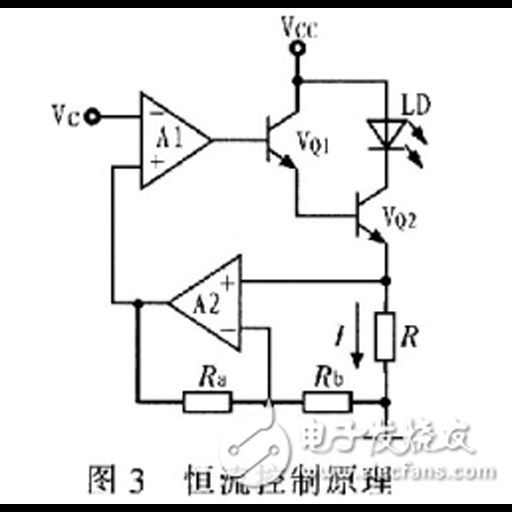amplifier: (130, 86, 217, 195), (164, 249, 253, 355)
firstresistance: (174, 389, 243, 416), (368, 309, 399, 368), (295, 389, 361, 416)
npn: (246, 103, 301, 182), (343, 184, 394, 251)
secondled: (355, 114, 433, 172)
